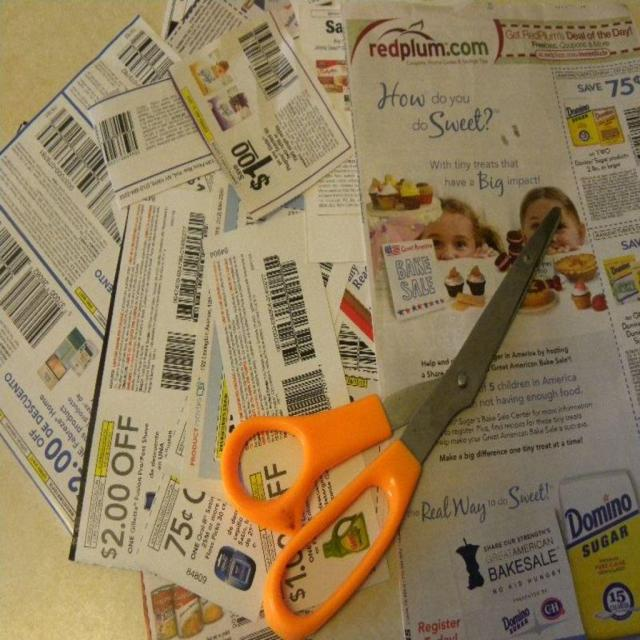scissor: (220, 202, 560, 639)
